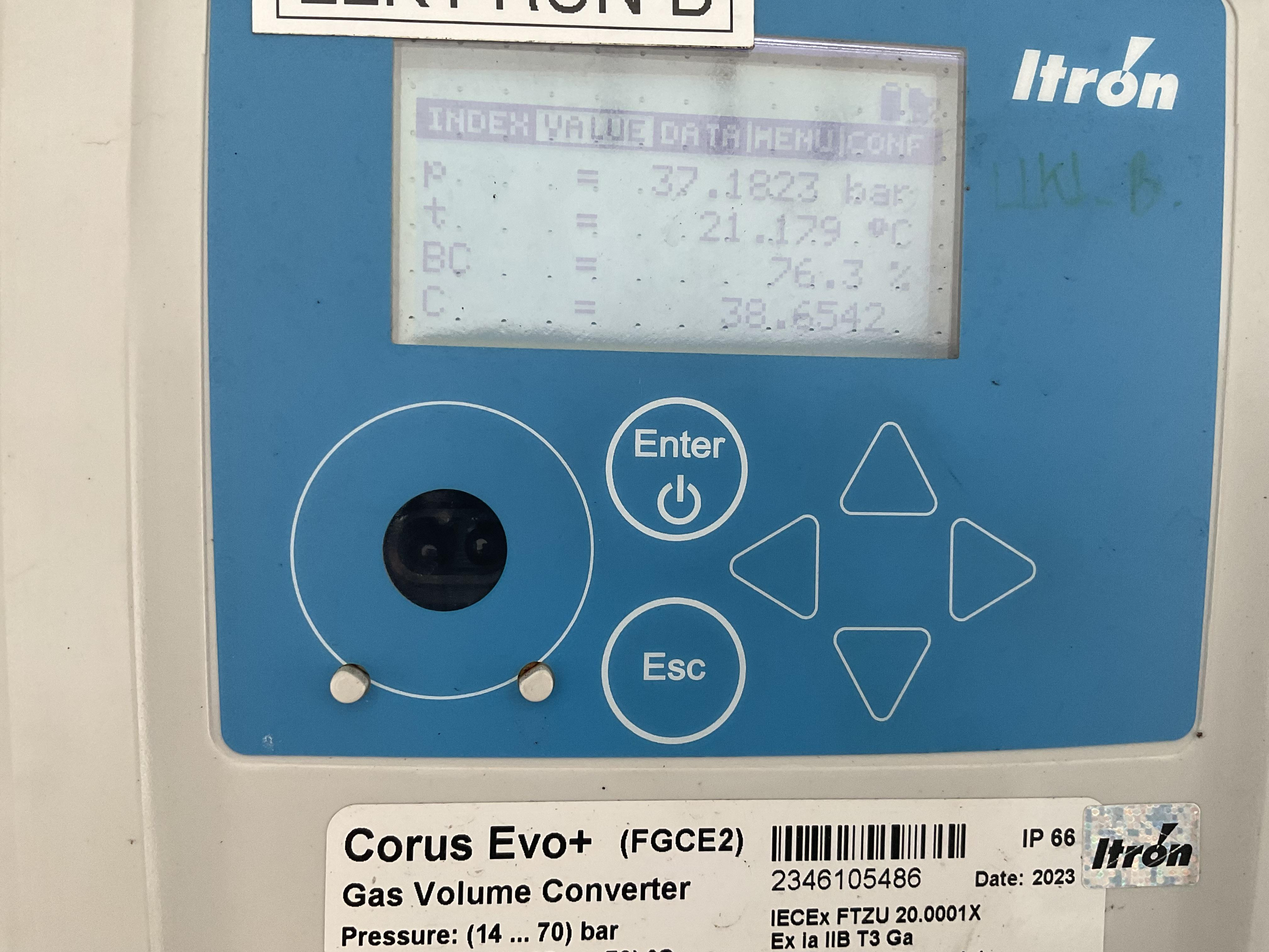digital_screen: (385, 20, 968, 358)
